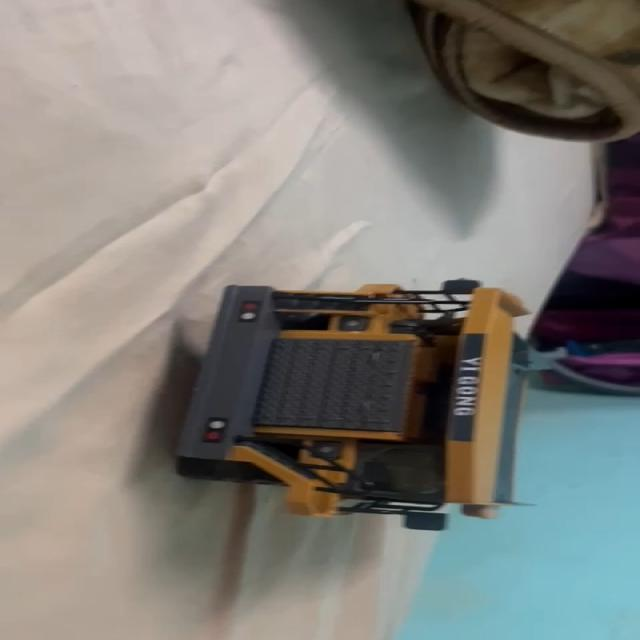dump_truck: (137, 276, 542, 524)
